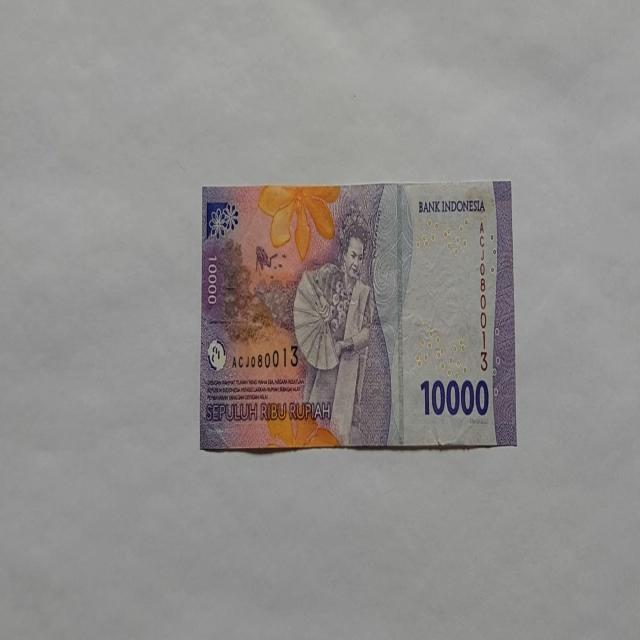sepuluh ribu rupiah: (198, 180, 516, 452), (418, 375, 489, 418)
